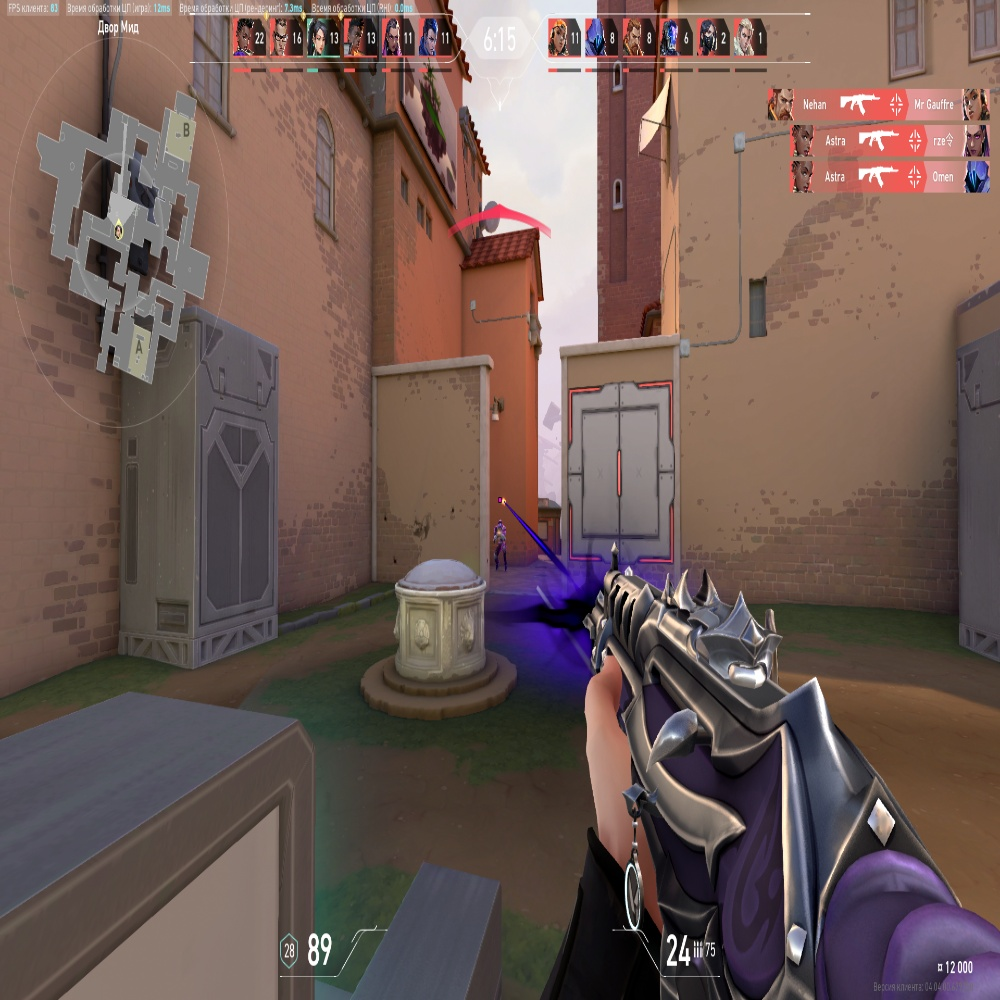body: (495, 528, 506, 545)
head: (498, 519, 503, 527)
